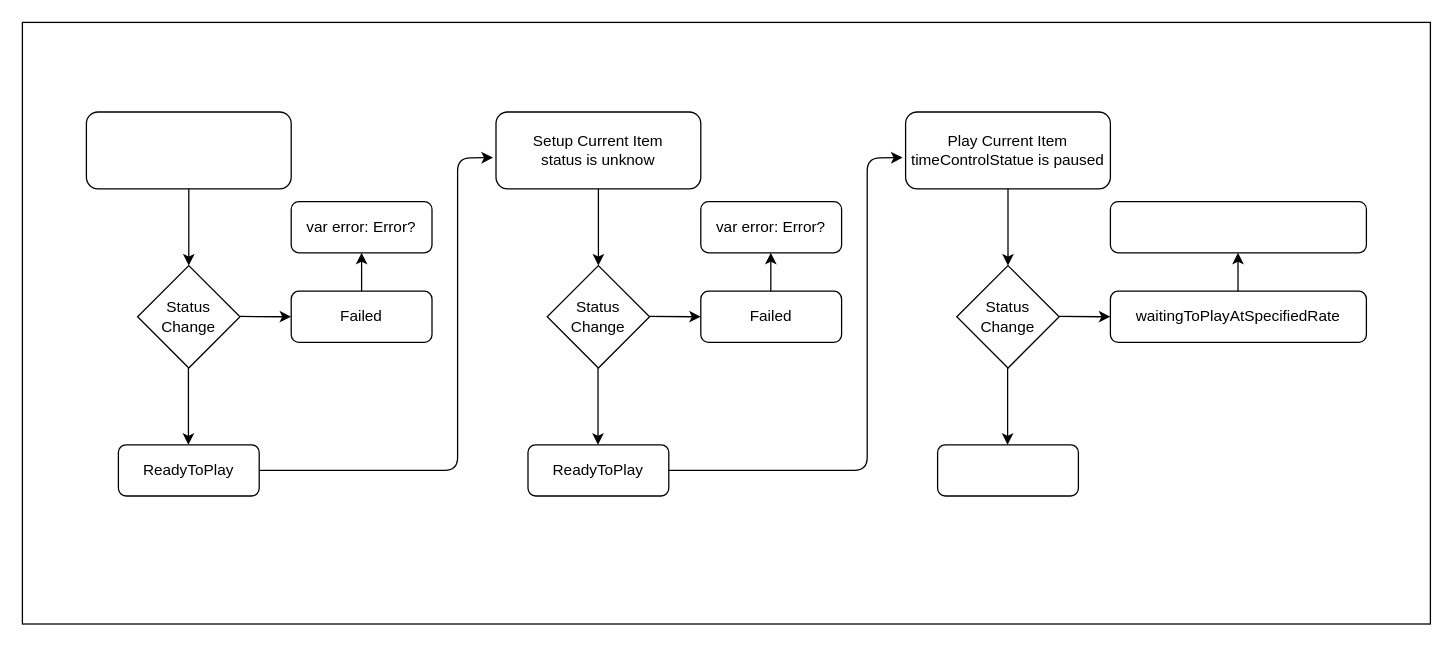
Some shapes in this 1453 by 646 pixel diagram are drawn without their labels. Each missing label, with the box of its shape:
AVPlayer init status is unknow: (85, 111, 291, 189)
playing: (936, 444, 1078, 496)
var reasonForWaitingToPlay: AVPlayer.WaitingReason?: (1109, 200, 1366, 253)
